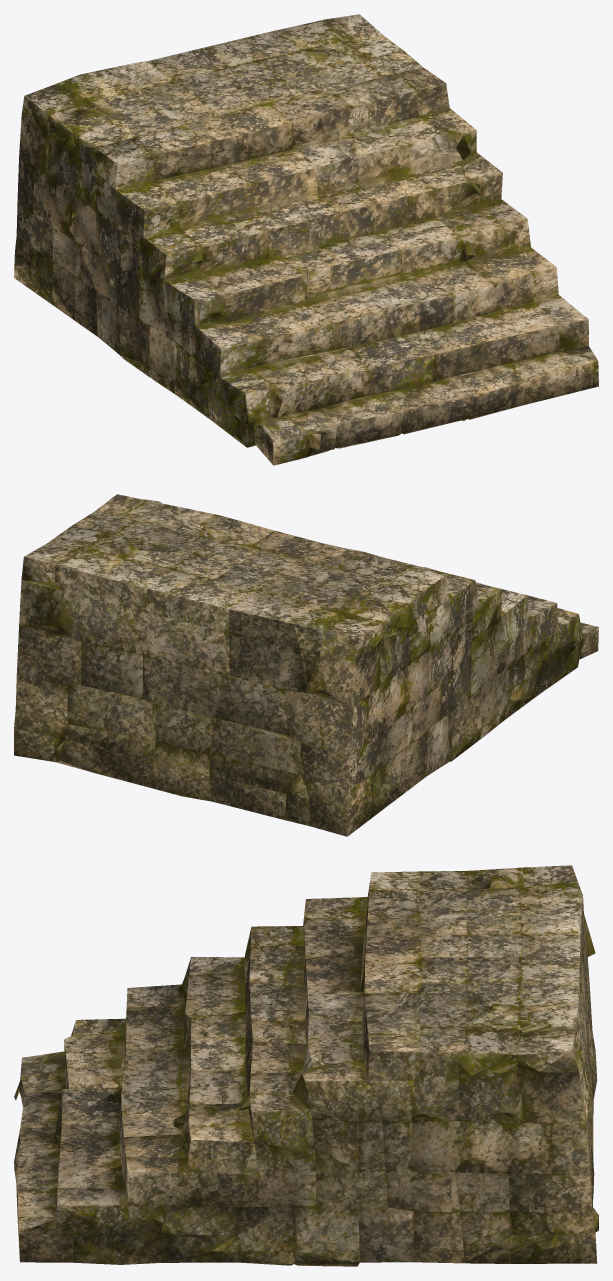
File: ARQ_EscalinataMaya_01_LOD2.fbx
3 renders of one model, top to bottom at view 1: azimuth 30°, elevation 25°; view 2: azimuth 150°, elevation 25°; view 3: azimuth 270°, elevation 25°, orthographic. The views are drawn at different scales.
Parts seen in each view (by area): view 1: ARQ_EscalinataMaya_01_Mesh000; view 2: ARQ_EscalinataMaya_01_Mesh000; view 3: ARQ_EscalinataMaya_01_Mesh000.
Boxes of the visible parts, <box> form: ARQ_EscalinataMaya_01_Mesh000: <box>14,14,598,465</box>; ARQ_EscalinataMaya_01_Mesh000: <box>14,494,598,836</box>; ARQ_EscalinataMaya_01_Mesh000: <box>14,865,598,1266</box>.
Size of the model in its own units: 3 by 1.62 by 3.84.
